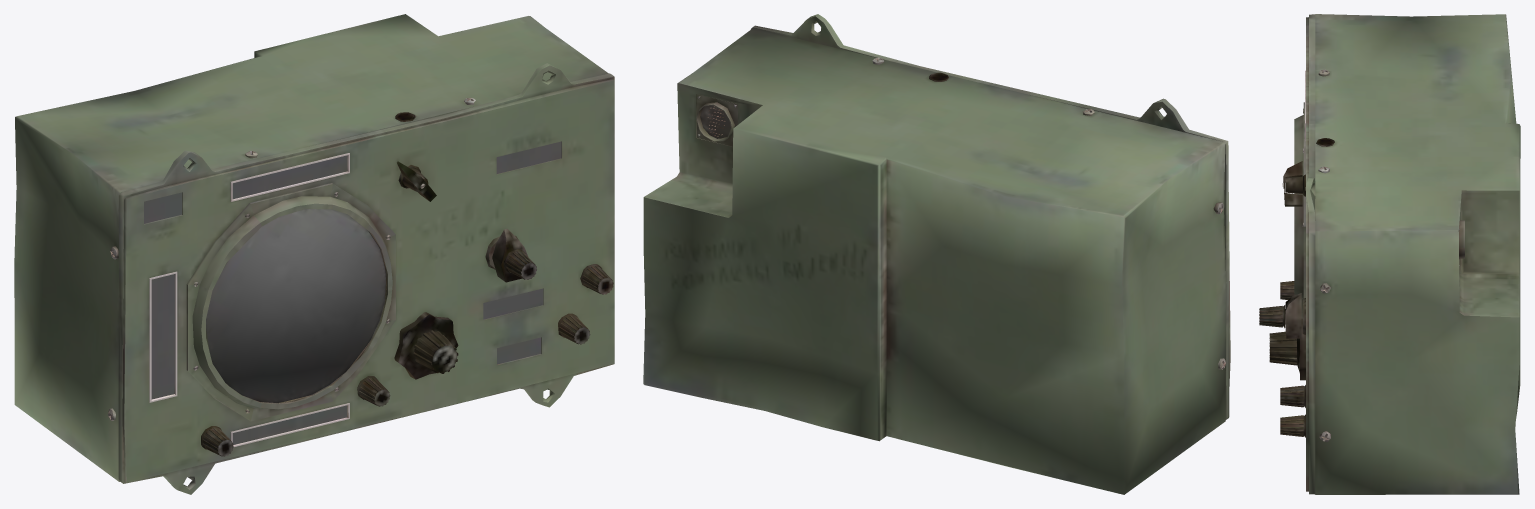
The model's file is vintage_spacecraft_instrument.glb.
3 renders of one model, left to right at view 1: azimuth 30°, elevation 25°; view 2: azimuth 150°, elevation 25°; view 3: azimuth 270°, elevation 25°, orthographic. The views are drawn at different scales.
Parts seen in each view (by area): view 1: vintage_spacecraft_instrument; view 2: vintage_spacecraft_instrument; view 3: vintage_spacecraft_instrument.
Boxes of the visible parts, bbox=[...] form: vintage_spacecraft_instrument: bbox=[14, 14, 614, 494]; vintage_spacecraft_instrument: bbox=[643, 14, 1230, 494]; vintage_spacecraft_instrument: bbox=[1259, 14, 1520, 494].
Bounding box in the file's own units: 0.4103 × 0.2693 × 0.2044.
2 materials, 2 textured.
